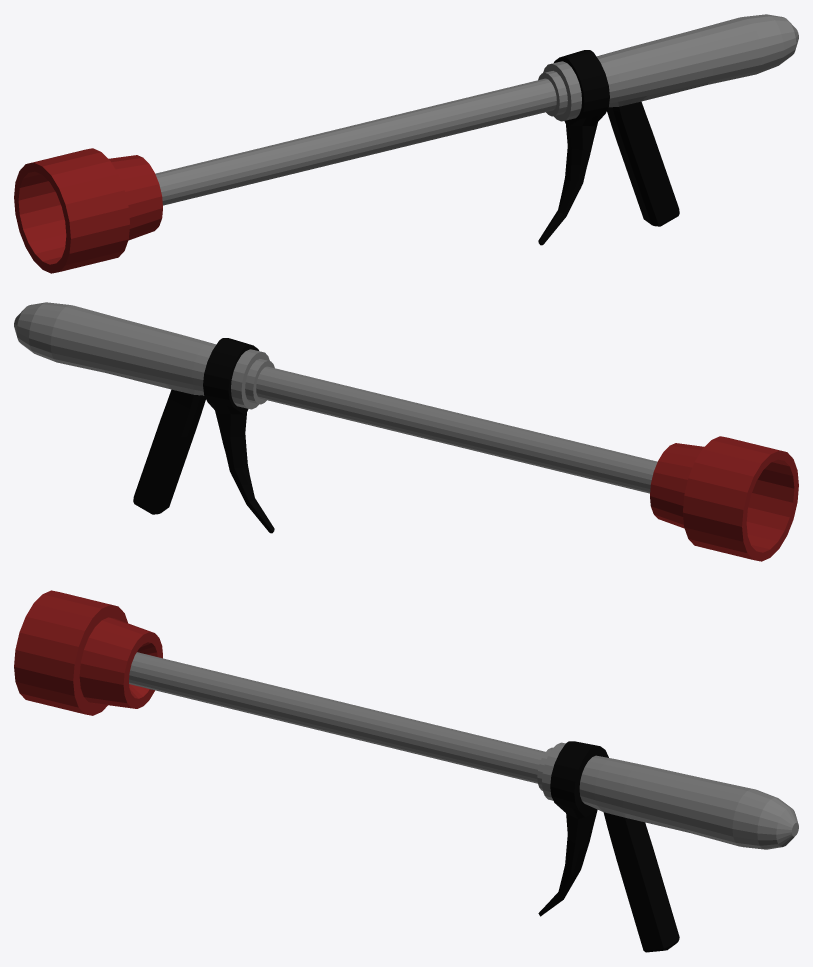
The model's file is Pesticite.fbx.
3 renders of one model, top to bottom at view 1: azimuth 30°, elevation 25°; view 2: azimuth 150°, elevation 25°; view 3: azimuth 330°, elevation 25°, orthographic.
Parts seen in each view (by area): view 1: Pesticide; view 2: Pesticide; view 3: Pesticide.
Part boxes in pixels (x1=…): Pesticide: x1=14, y1=14, x2=798, y2=273; Pesticide: x1=14, y1=302, x2=798, y2=561; Pesticide: x1=14, y1=590, x2=798, y2=952.
Bounding box in the file's own units: 63.96 × 16.68 × 8.38.
